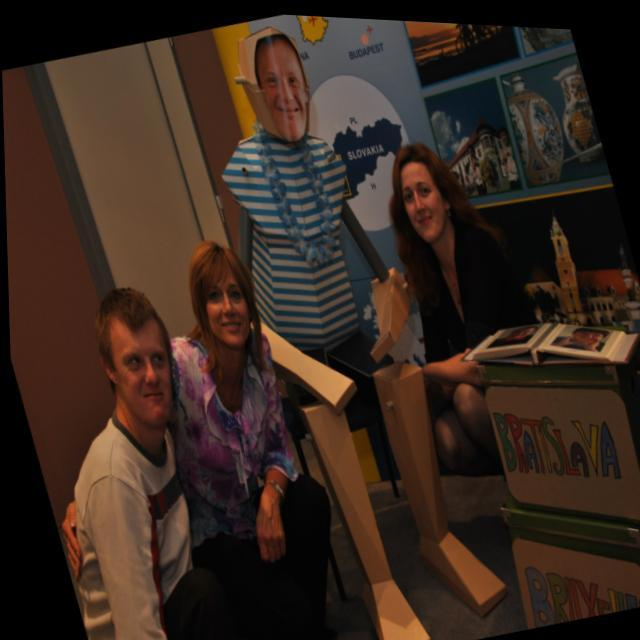Nonhelmet: (89, 279, 193, 443), (180, 229, 265, 353), (380, 139, 469, 250)
